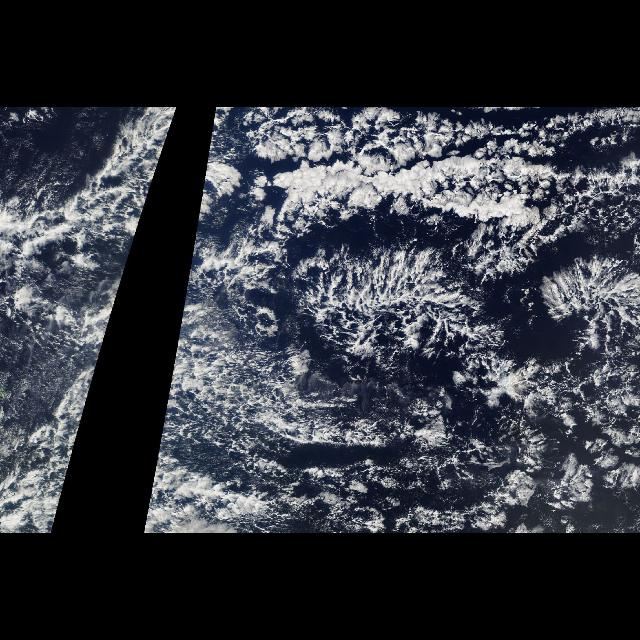Fish: (280, 243, 638, 391)
Flower: (223, 112, 631, 524)
Gravel: (174, 337, 304, 461)
